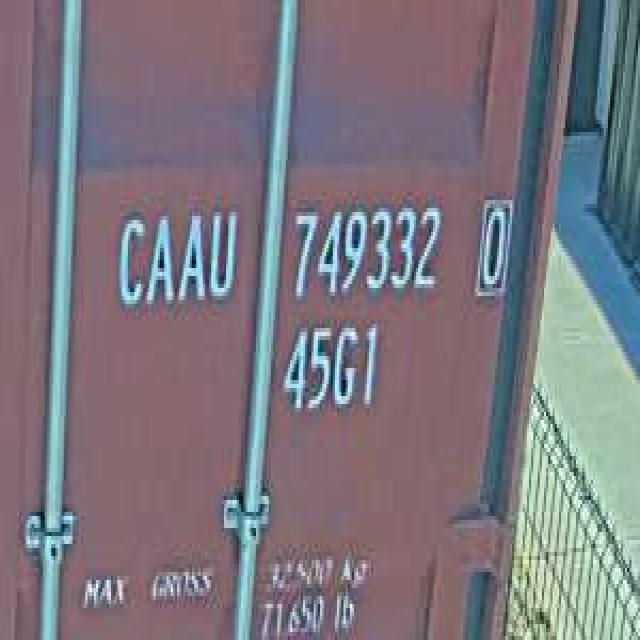dv: (472, 188, 514, 304)
owner: (107, 196, 239, 316)
serial: (284, 192, 446, 304)
size: (277, 312, 382, 424)
